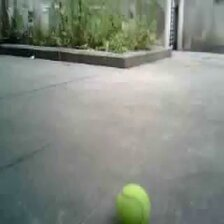tennis: (115, 183, 152, 223)
